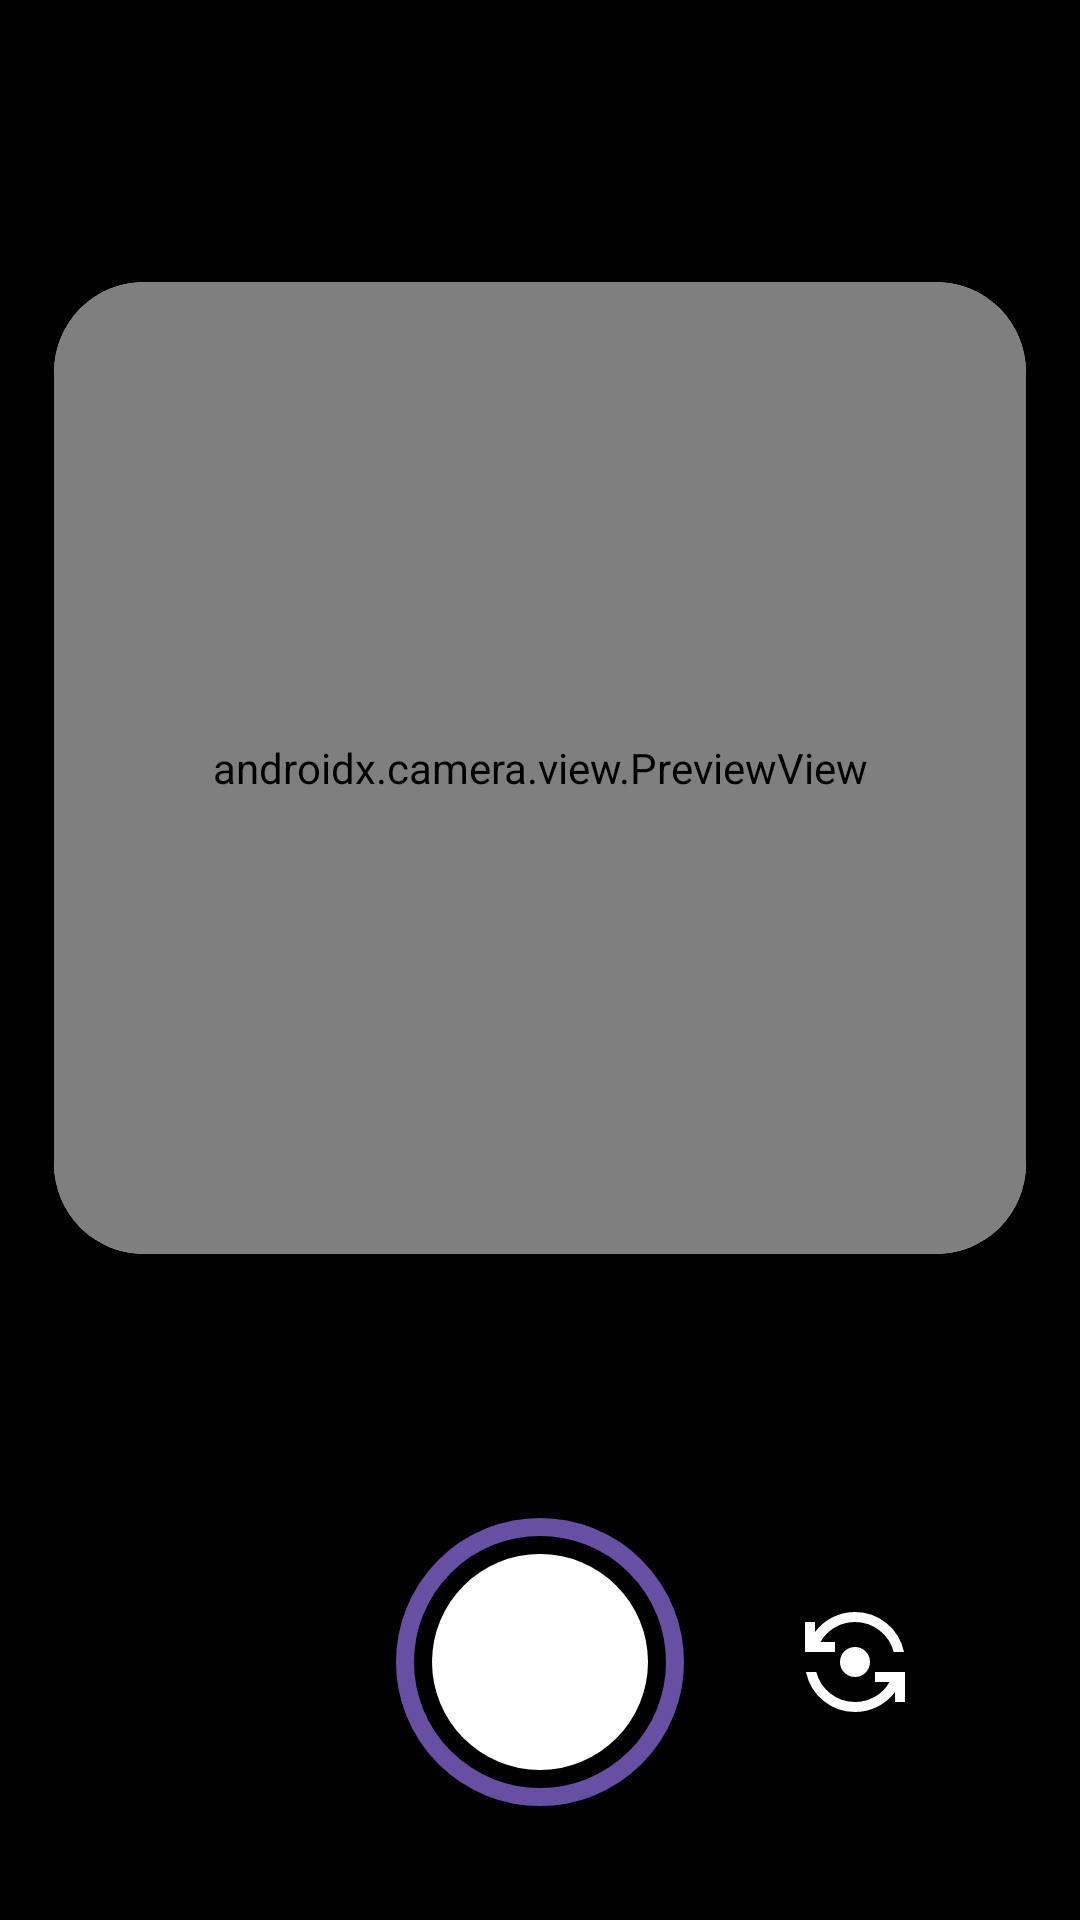

Screen size 1080x1920. Icon name, then its center in pixels as (x,y):
flip cam: (855,1662)
